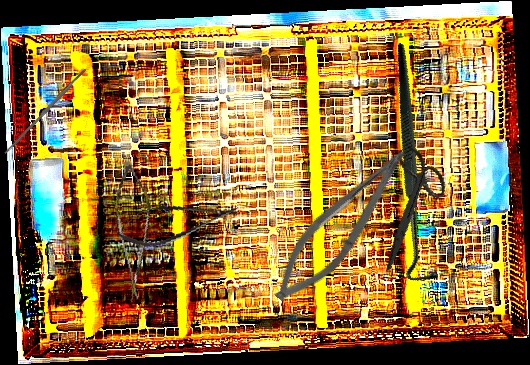Hook Surgical: (312, 42, 520, 290)
Iris Scissors: (355, 140, 464, 272)
Micro Scissor: (262, 133, 418, 316), (97, 158, 173, 306), (113, 190, 241, 254)
Scalpel Handle: (3, 67, 88, 156)
